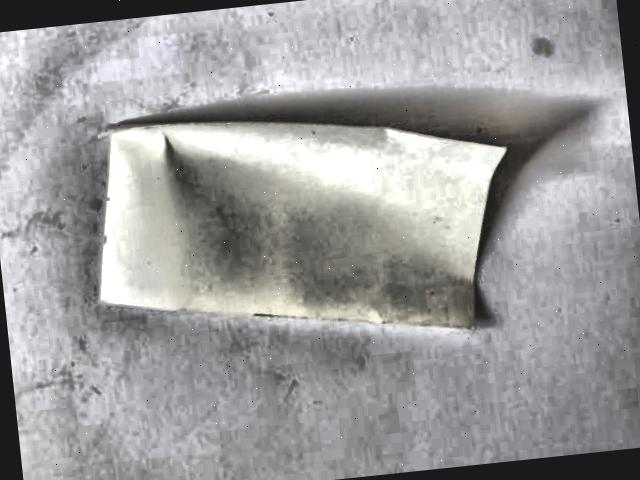Paper: (71, 59, 607, 369)
